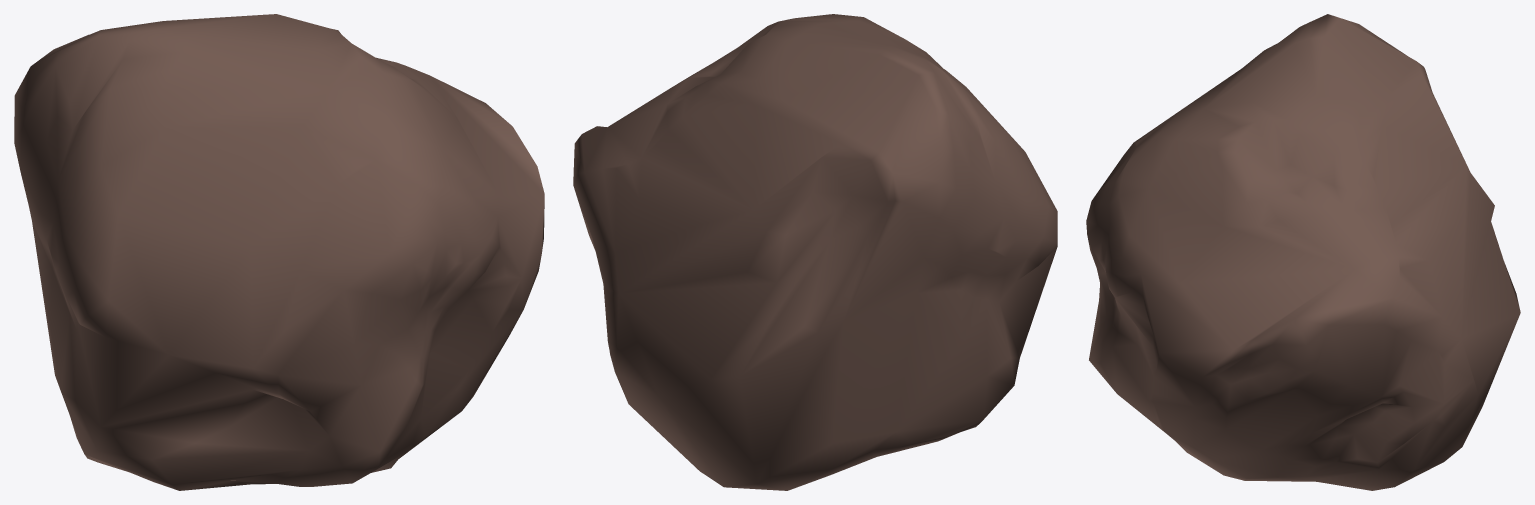
The model's file is SM_Asteroid_Large2.fbx.
3 renders of one model, left to right at view 1: azimuth 30°, elevation 25°; view 2: azimuth 150°, elevation 25°; view 3: azimuth 270°, elevation 25°, orthographic. The views are drawn at different scales.
Parts seen in each view (by area): view 1: Asteroid_E; view 2: Asteroid_E; view 3: Asteroid_E.
Part boxes in pixels (box(x1,y1,x2,y2)): Asteroid_E: box(14, 14, 544, 490); Asteroid_E: box(573, 14, 1057, 490); Asteroid_E: box(1086, 14, 1520, 490).
Size of the model in its own units: 148 by 137 by 138.
